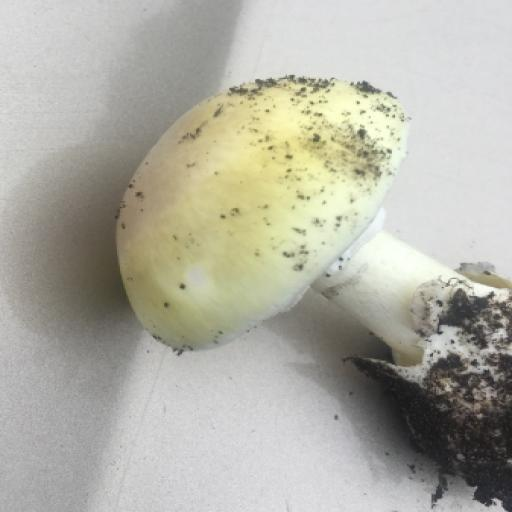Death Cap: (69, 9, 512, 512)
